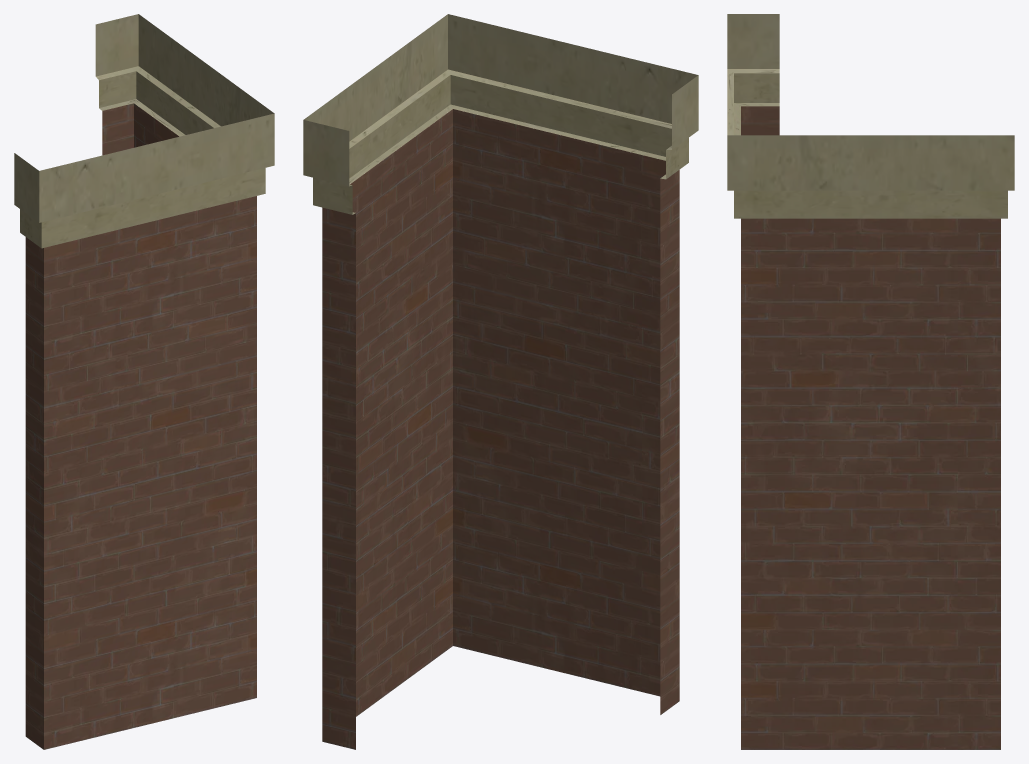
Rendered from Brick_CornerColumn_Top.glb.
3 renders of one model, left to right at view 1: azimuth 30°, elevation 25°; view 2: azimuth 150°, elevation 25°; view 3: azimuth 270°, elevation 25°, orthographic. The views are drawn at different scales.
Parts seen in each view (by area): view 1: Brick_CornerColumn_Top; view 2: Brick_CornerColumn_Top; view 3: Brick_CornerColumn_Top.
Part boxes in pixels (x1=…): Brick_CornerColumn_Top: x1=14, y1=14, x2=274, y2=749; Brick_CornerColumn_Top: x1=303, y1=14, x2=698, y2=749; Brick_CornerColumn_Top: x1=727, y1=14, x2=1014, y2=749.
Size of the model in its own units: 1.26 by 3 by 1.26.
Materials: 2 (2 with a texture image).
